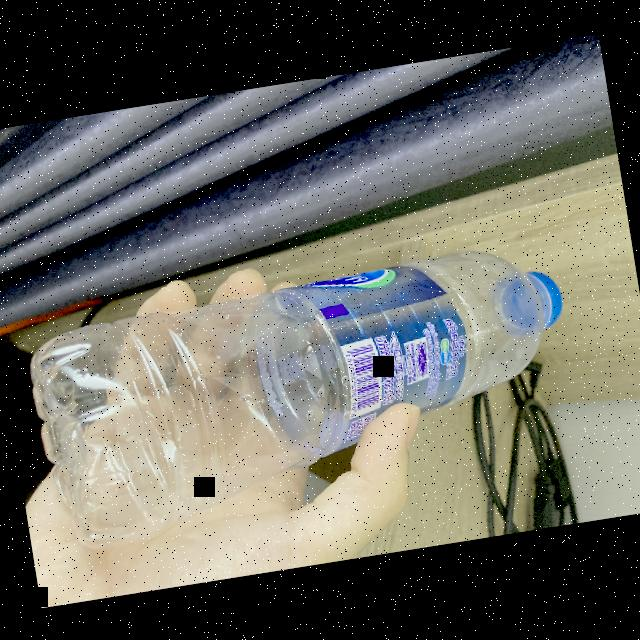plastic_bottle: (14, 232, 595, 557)
plastic_bottle_cap: (496, 266, 568, 332)
